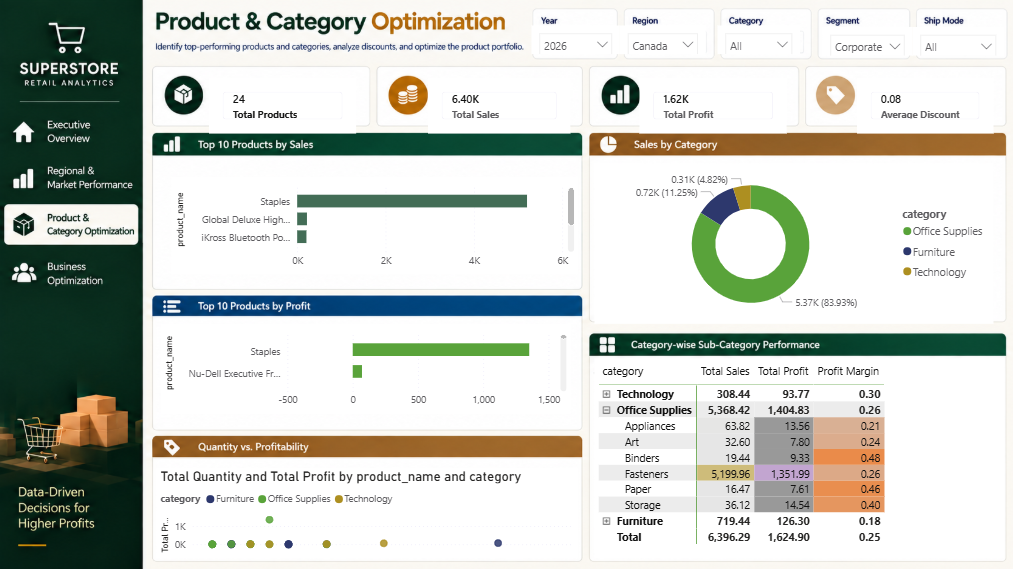

The page's visual inventory and layout, read from the dashboard file:
{"tool":"powerbi","page":{"name":"Page 3","canvas":[1280,720],"ordinal":2},"visuals":[{"type":"slicer","fields":{"Values":["superstore_cleaned.order_date.Variation.Date Hierarchy.Year"]},"box":[670.9,32.1,111.5,35.9],"z":0},{"type":"slicer","fields":{"Values":["superstore_cleaned.country_region","superstore_cleaned.region"]},"box":[782.4,32.1,107.7,35.9],"z":1000},{"type":"slicer","fields":{"Values":["superstore_cleaned.ship_mode"]},"box":[1150.9,34,115.3,35.9],"z":2000},{"type":"slicer","fields":{"Values":["superstore_cleaned.category"]},"box":[905.2,32.1,103.9,35.9],"z":3000},{"type":"slicer","fields":{"Values":["superstore_cleaned.segment"]},"box":[1037.5,34,113.4,35.9],"z":4000},{"type":"cardVisual","fields":{"Data":["superstore_cleaned.Total Products"]},"box":[264.6,98.3,185.2,69.9],"z":5000},{"type":"cardVisual","fields":{"Data":["superstore_cleaned.Total Sales"]},"box":[540.5,98.3,179.5,69.9],"z":6000},{"type":"cardVisual","fields":{"Data":["superstore_cleaned.Total Profit"]},"box":[806.9,98.3,185.2,69.9],"z":7000},{"type":"cardVisual","fields":{"Data":["superstore_cleaned.Average Discount"]},"box":[1081,98.3,172,69.9],"z":8000},{"type":"clusteredBarChart","fields":{"Y":["superstore_cleaned.Total Sales"],"Category":["superstore_cleaned.product_name"]},"box":[217.3,223,512.1,122.8],"z":9000},{"type":"donutChart","fields":{"Y":["superstore_cleaned.Total Sales"],"Category":["superstore_cleaned.category"]},"box":[750.2,206,502.7,202.2],"z":10000},{"type":"pivotTable","fields":{"Rows":["superstore_cleaned.category","superstore_cleaned.sub_category"],"Values":["superstore_cleaned.Total Sales","superstore_cleaned.Total Profit","superstore_cleaned.Profit Margin"]},"box":[750.2,451.7,515.9,251.3],"z":11000},{"type":"clusteredBarChart","fields":{"Category":["superstore_cleaned.product_name"],"Y":["superstore_cleaned.Total Profit"]},"box":[204.1,408.2,515.9,113.4],"z":12000},{"type":"scatterChart","fields":{"Y":["superstore_cleaned.Total Profit"],"Series":["superstore_cleaned.category"],"X":["superstore_cleaned.Total Quantity"],"Category":["superstore_cleaned.product_name"]},"box":[198.4,589.6,531,113.4],"z":13000}]}

Visuals, with their boxes on the page's 1280x720 design canvas (x1, y1, x2, y2). These are canvas units, not pixel positions in the 1013x569 screenshot, which may show the page scaled, cropped or inside an application window:
slicer - superstore_cleaned.order_date.Variation.Date Hierarchy.Year: 671,32,782,68
slicer - superstore_cleaned.country_region x superstore_cleaned.region: 782,32,890,68
slicer - superstore_cleaned.ship_mode: 1151,34,1266,70
slicer - superstore_cleaned.category: 905,32,1009,68
slicer - superstore_cleaned.segment: 1038,34,1151,70
cardVisual - superstore_cleaned.Total Products: 265,98,450,168
cardVisual - superstore_cleaned.Total Sales: 540,98,720,168
cardVisual - superstore_cleaned.Total Profit: 807,98,992,168
cardVisual - superstore_cleaned.Average Discount: 1081,98,1253,168
clusteredBarChart - superstore_cleaned.Total Sales x superstore_cleaned.product_name: 217,223,729,346
donutChart - superstore_cleaned.Total Sales x superstore_cleaned.category: 750,206,1253,408
pivotTable - superstore_cleaned.category x superstore_cleaned.sub_category: 750,452,1266,703
clusteredBarChart - superstore_cleaned.product_name x superstore_cleaned.Total Profit: 204,408,720,522
scatterChart - superstore_cleaned.Total Profit x superstore_cleaned.category: 198,590,729,703
